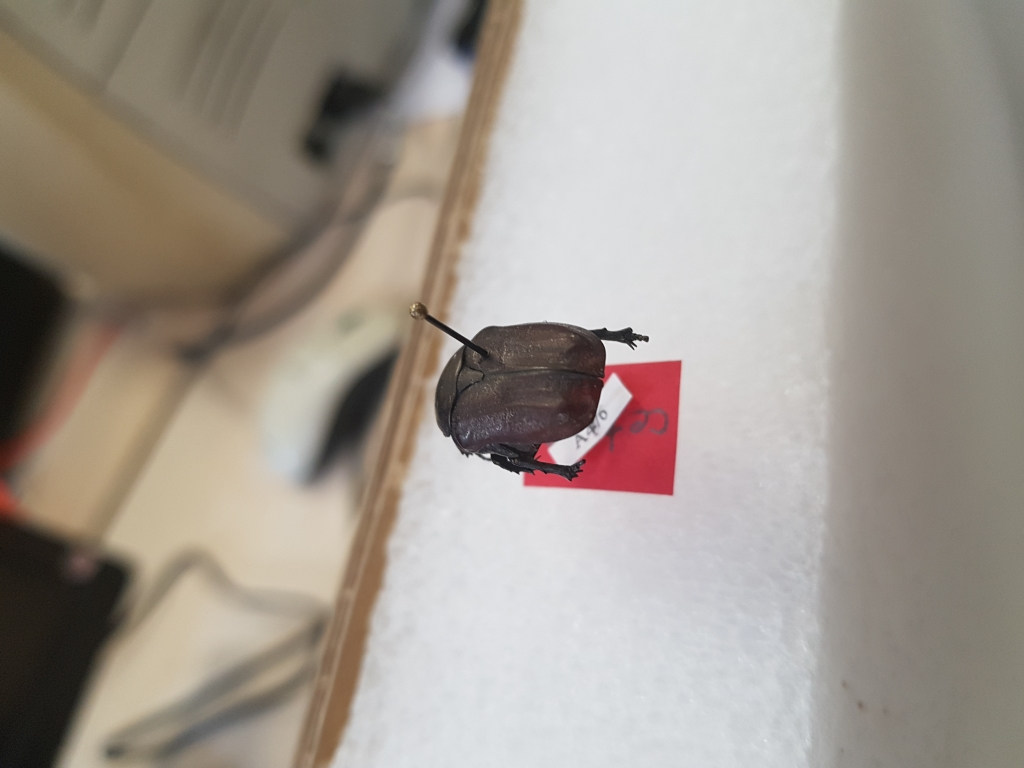Protaetia_asiatica: (429, 318, 662, 485)
